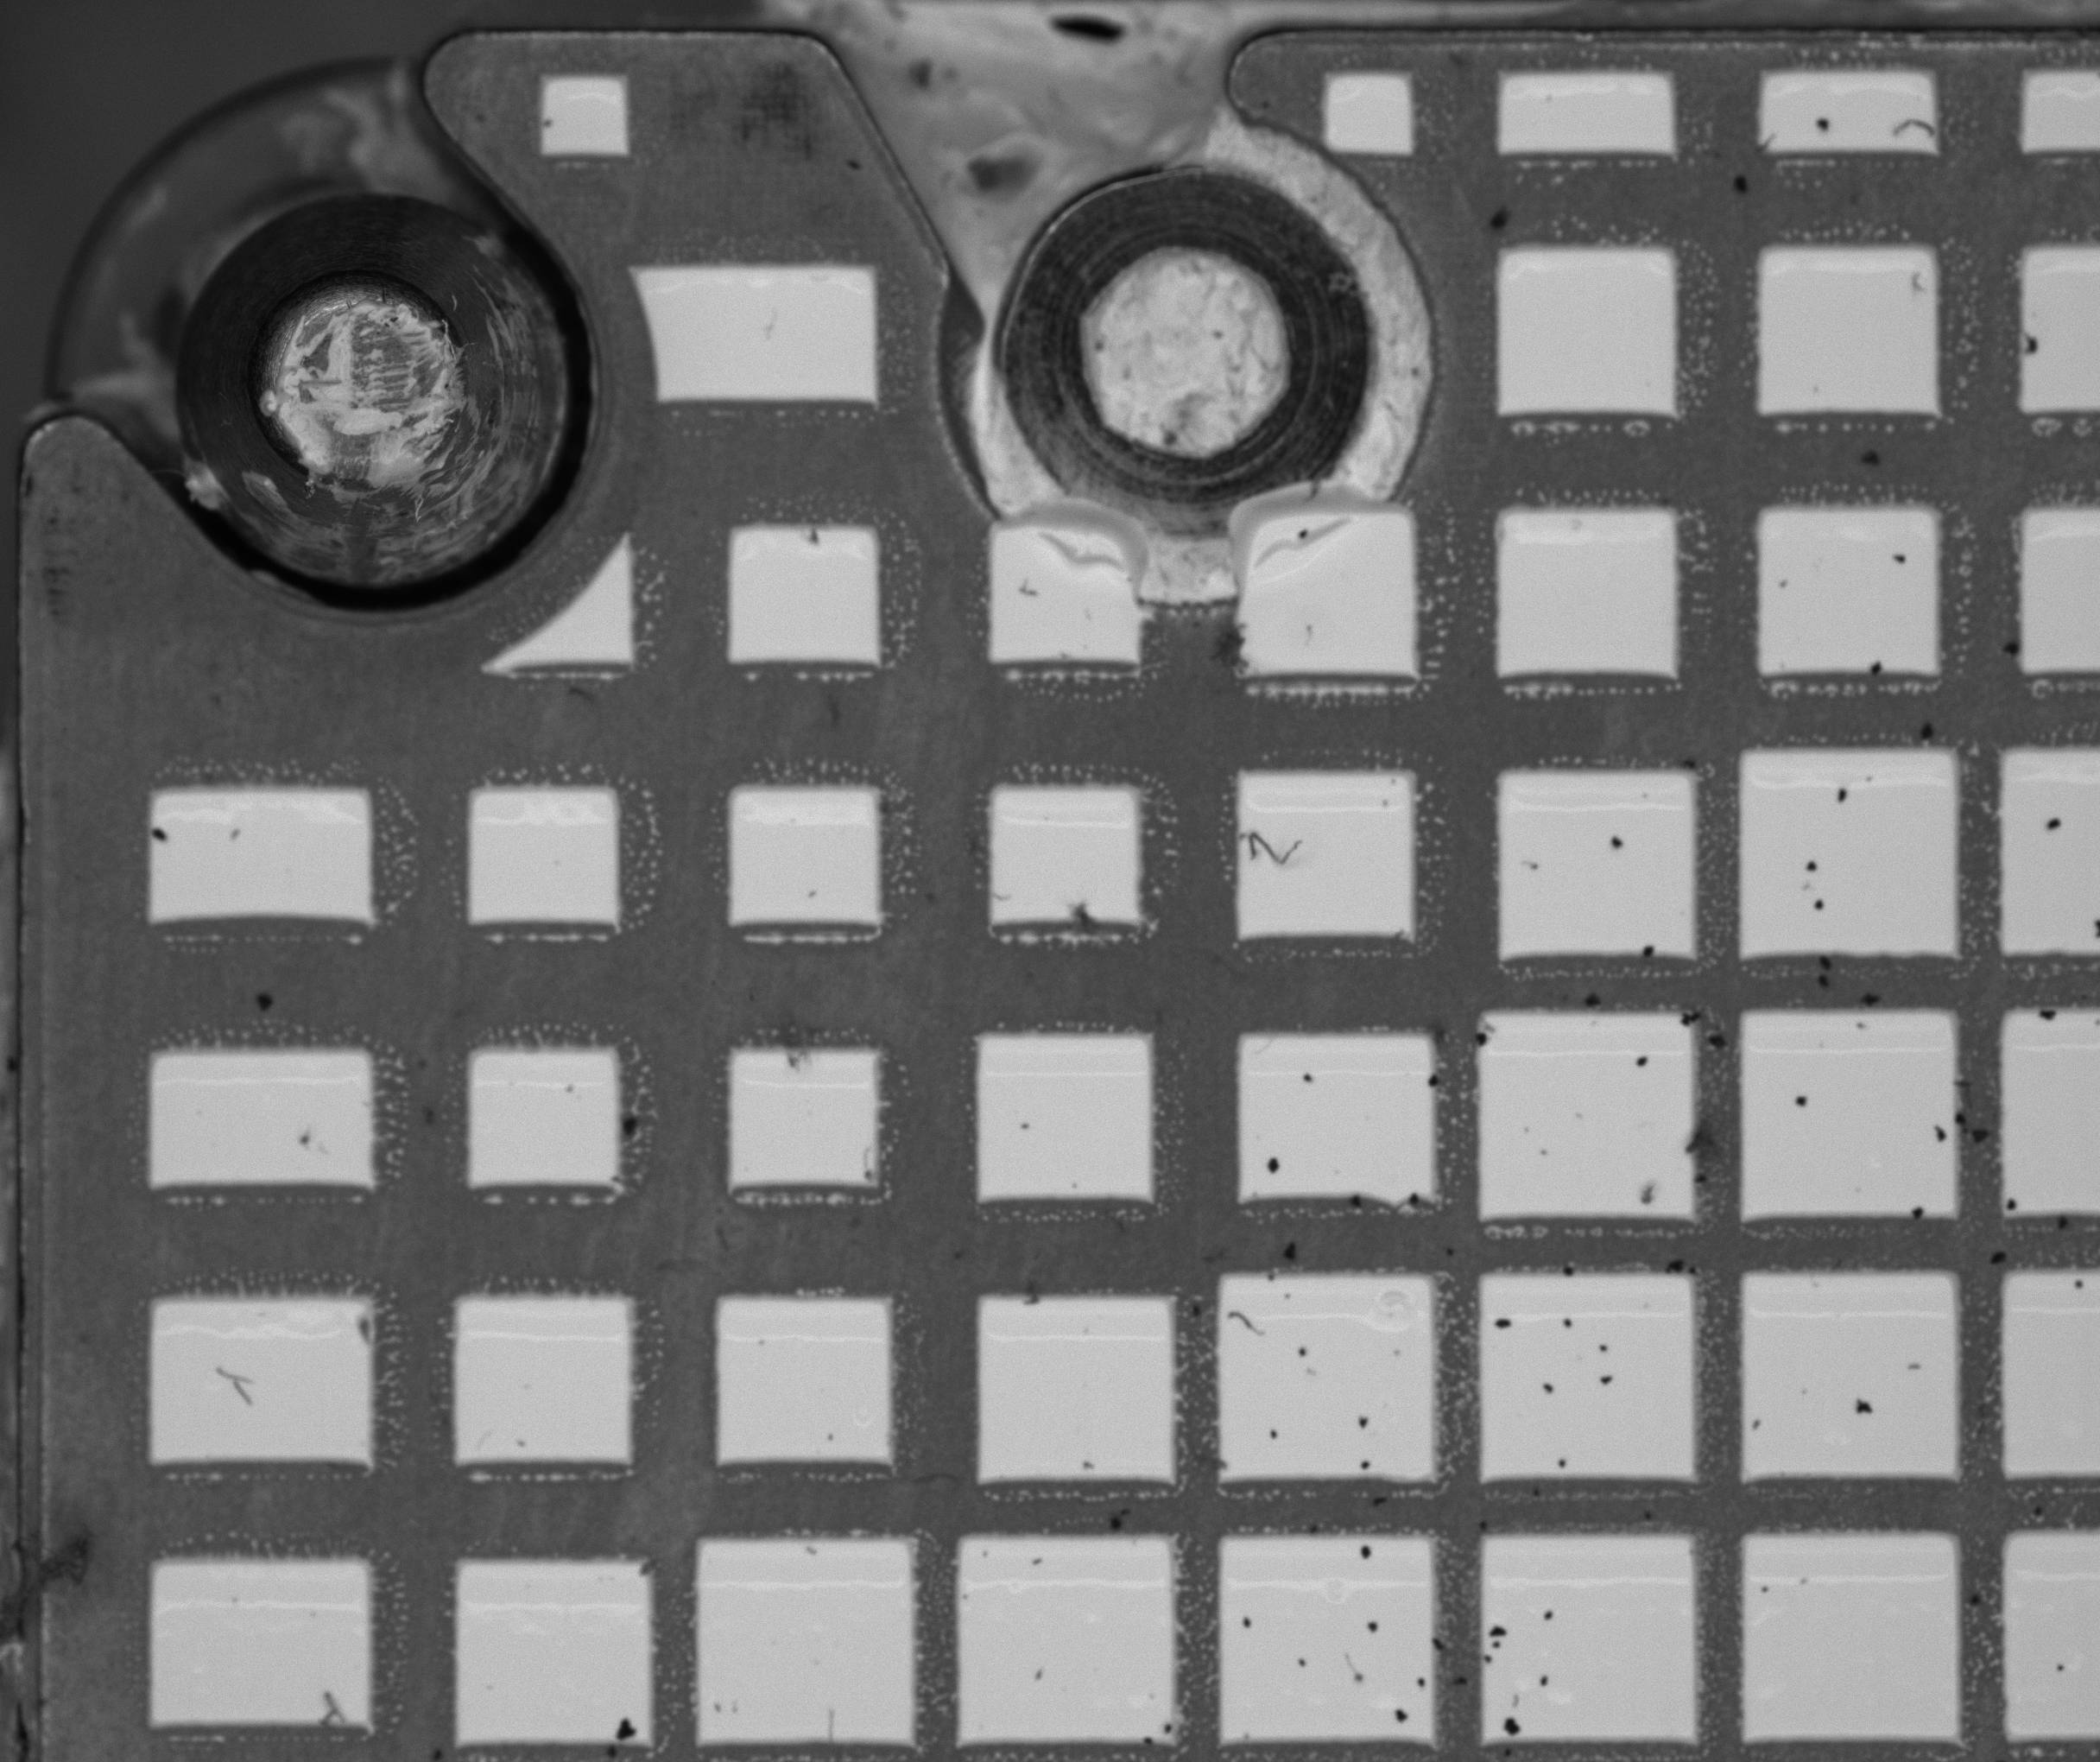foreign: (1242, 827, 1305, 869), (1209, 614, 1247, 673), (1887, 114, 1938, 143)
spot: (1677, 1007, 1703, 1028), (1812, 115, 1831, 135), (1934, 1120, 1948, 1145)
